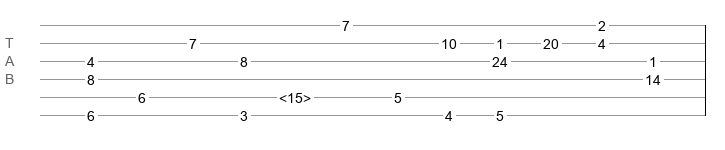1: (496, 36, 504, 46), (649, 54, 657, 64)
10: (441, 36, 457, 46)
14: (645, 72, 661, 82)
2: (598, 18, 606, 28)
20: (543, 36, 559, 46)
24: (492, 54, 508, 64)
3: (240, 108, 248, 118)
4: (87, 54, 95, 64), (445, 108, 453, 118), (598, 36, 606, 46)
5: (394, 90, 402, 100), (496, 108, 504, 118)
6: (87, 108, 95, 118), (138, 90, 146, 100)
7: (189, 36, 197, 46), (342, 18, 350, 28)
8: (87, 72, 95, 82), (240, 54, 248, 64)
harmonic: (279, 90, 311, 100)
